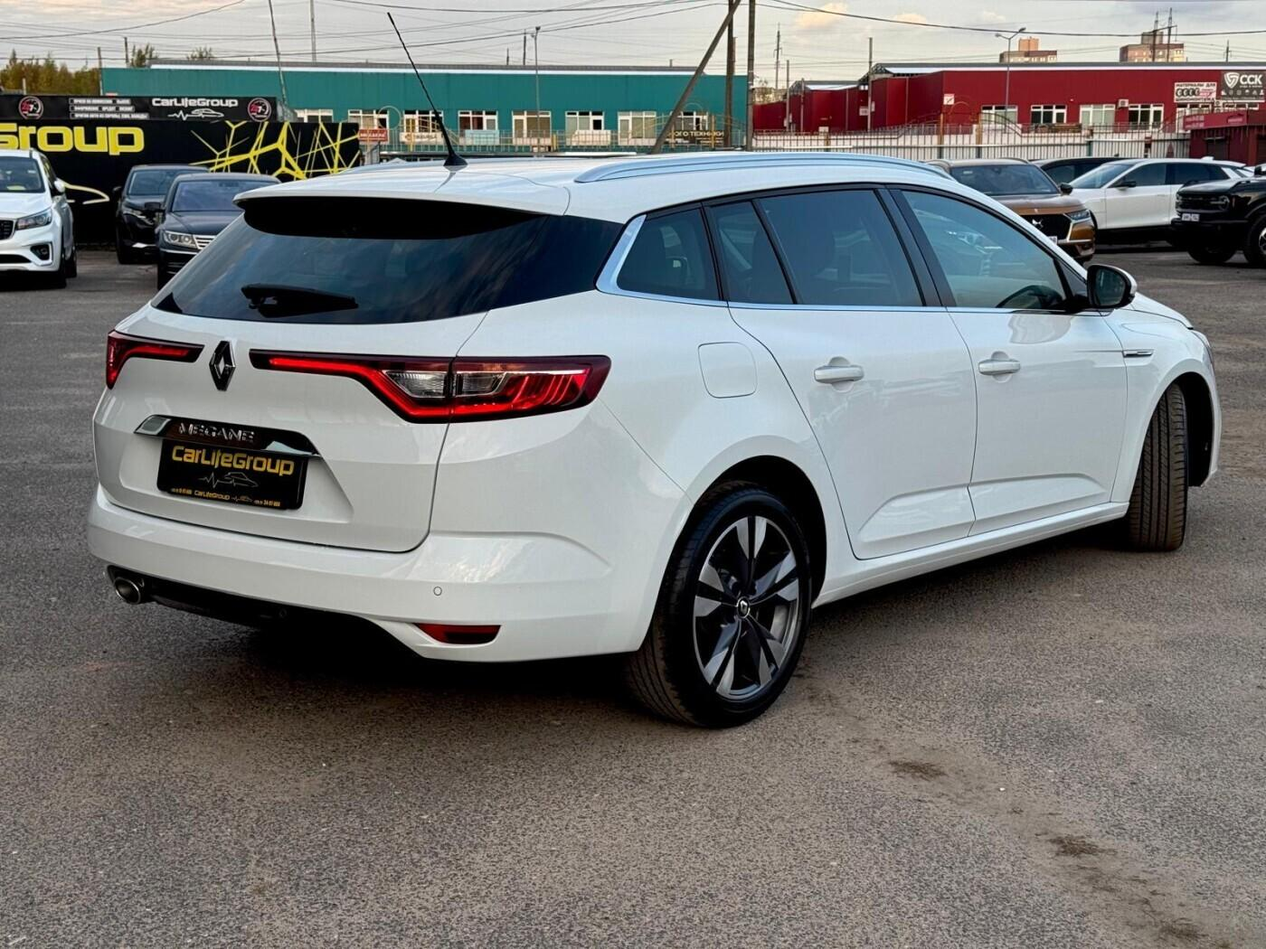Megane_2016-2020: (78, 137, 1216, 731)
